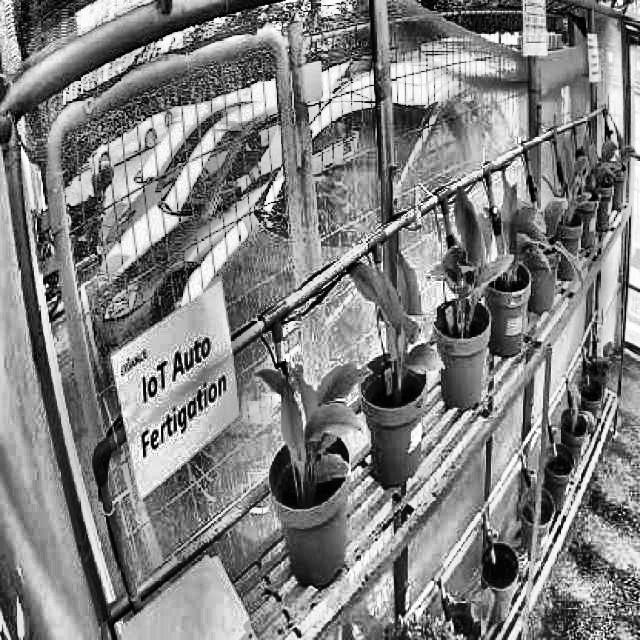plants: (256, 364, 372, 501), (346, 255, 444, 373), (431, 184, 507, 324), (498, 174, 550, 288), (562, 146, 588, 217)
